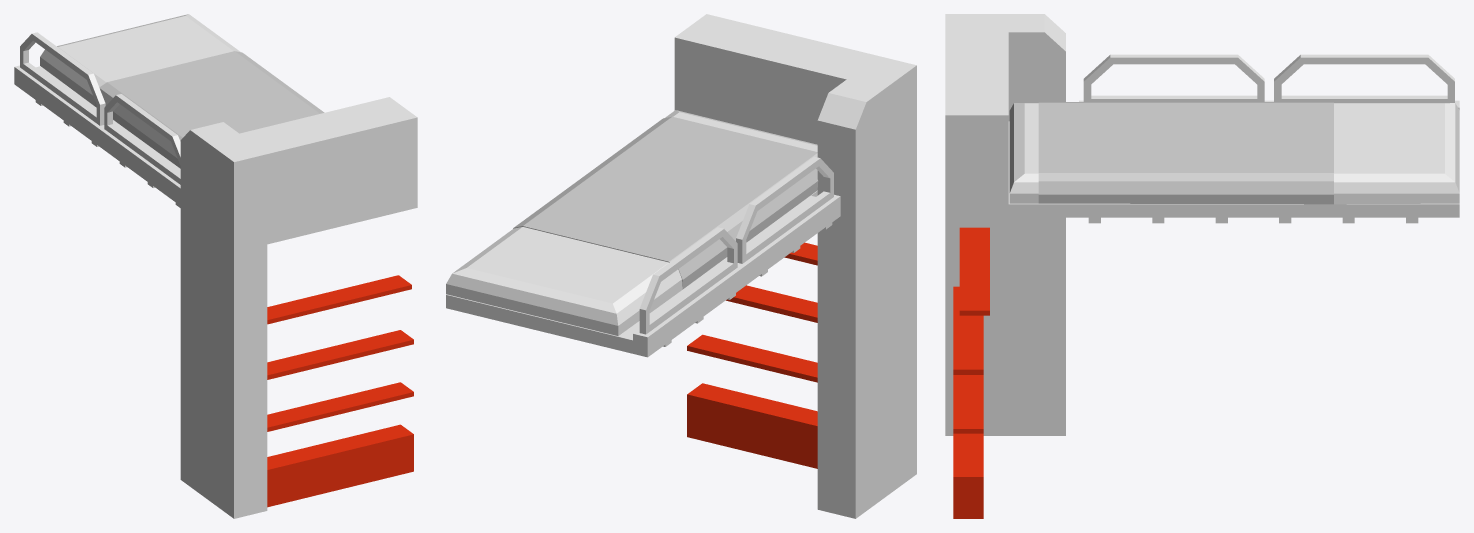
File: bunk_bed.fbx
3 views of the same model, side by side, from view 1: azimuth 30°, elevation 25°; view 2: azimuth 150°, elevation 25°; view 3: azimuth 270°, elevation 25° (orthographic). The views are drawn at different scales.
Parts seen in each view (by area): view 1: bunk_bed; view 2: bunk_bed; view 3: bunk_bed.
Part boxes in pixels (bbox=[...]): bunk_bed: bbox=[14, 14, 417, 518]; bunk_bed: bbox=[446, 14, 916, 518]; bunk_bed: bbox=[945, 14, 1459, 518].
Bounding box in the file's own units: 1.96 × 3.63 × 4.19.
